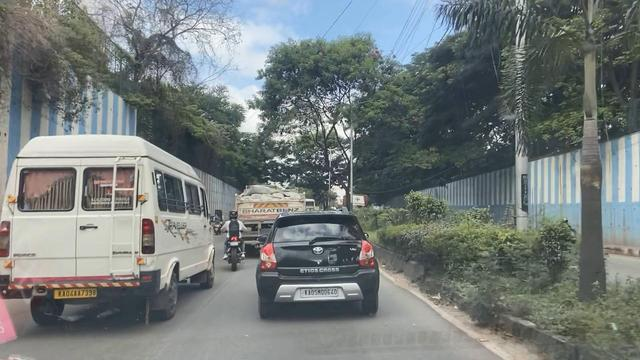HMV: (0, 134, 218, 333)
LMV: (247, 204, 388, 332), (221, 204, 250, 273)
